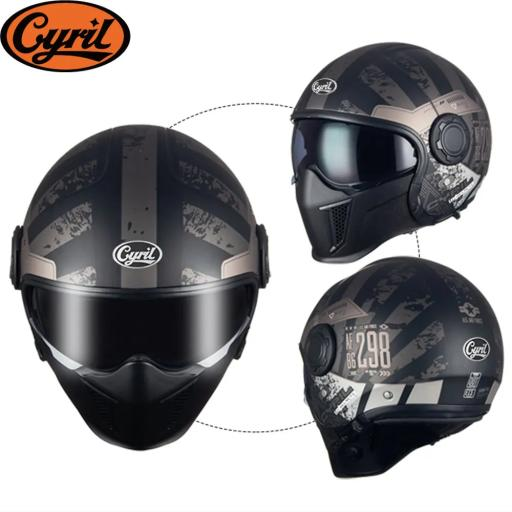helmet-detection: (10, 109, 278, 484), (290, 28, 512, 275)
